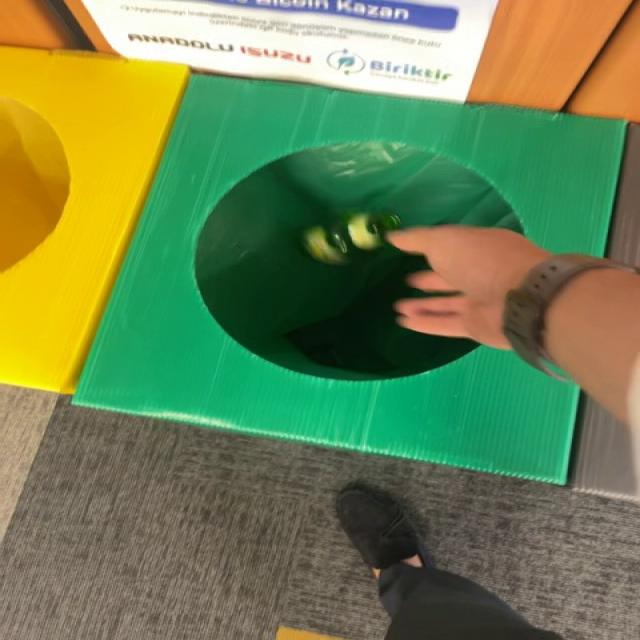glass: (301, 213, 403, 266)
